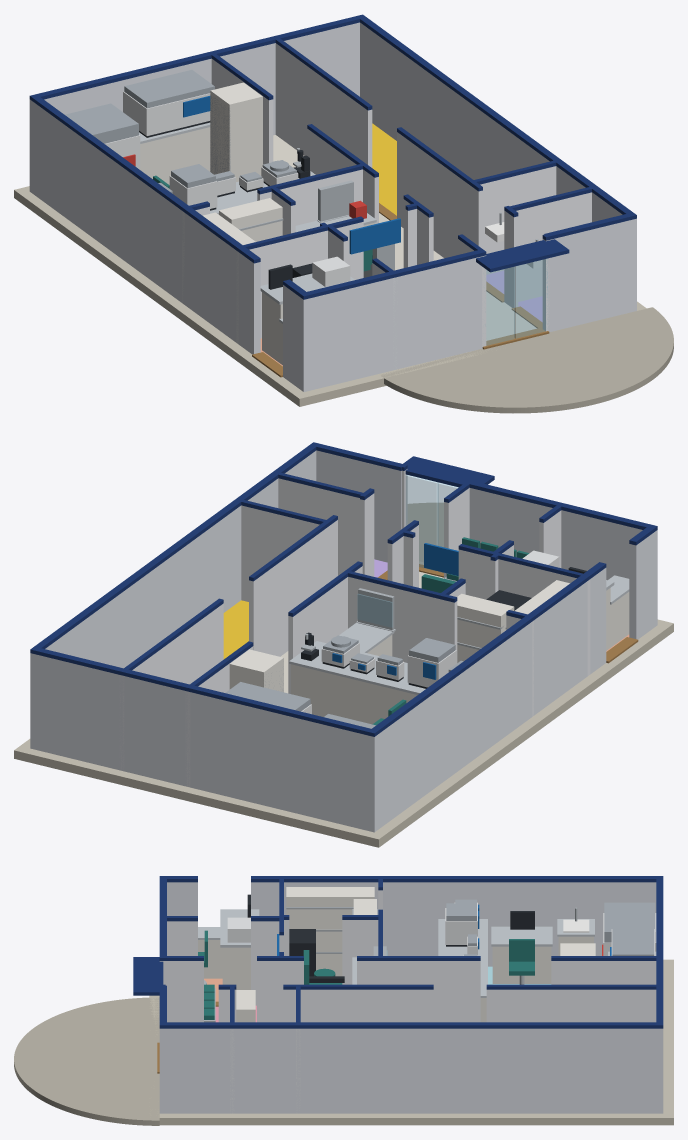
Rendered from diagnostic-lab-plan-b.glb.
3 views of the same model, one above another, from view 1: azimuth 30°, elevation 25°; view 2: azimuth 150°, elevation 25°; view 3: azimuth 270°, elevation 25° (orthographic). The views are drawn at different scales.
Parts seen in each view (by area): view 1: wall_west_1, entrance_apron, wall_south_1, wall_east_1, wall_south_2, wall_north_1, site_slab, part_spine_east_1, part_spine_east_2, sample_fridge, part_wash_mid_1, part_service_south_1 (+38 smaller); view 2: wall_north_1, wall_west_1, wall_east_1, site_slab, wall_south_1, part_spine_east_2, part_lab_south_2, bench_south_carcass, wall_south_2, part_spine_east_1, part_service_south_1, part_wash_mid_1 (+34 smaller); view 3: wall_east_1, entrance_apron, wall_west_1, site_slab, part_spine_east_1, part_spine_east_2, part_lab_east_2, storage_rack_a, wall_east_1_cap, wall_west_1_cap, part_lab_east_1, part_spine_west_3 (+34 smaller).
Boxes of the visible parts, x1,y1,x2,y2 form: wall_west_1: (29,100,260,354); entrance_apron: (381,307,673,413); wall_south_1: (300,256,482,391); wall_east_1: (360,22,636,311); wall_south_2: (548,219,636,332); wall_north_1: (29,22,359,193); site_slab: (14,186,646,406); part_spine_east_1: (275,43,372,167); part_spine_east_2: (397,132,482,258); sample_fridge: (210,82,262,181); part_wash_mid_1: (516,192,591,301); part_service_south_1: (236,222,363,344); wall_north_1: (30,653,378,832); wall_west_1: (367,568,606,831); wall_east_1: (30,451,316,749); site_slab: (14,561,673,847); wall_south_1: (469,488,657,627); part_spine_east_2: (249,520,337,656); part_lab_south_2: (348,577,457,662); bench_south_carcass: (291,664,417,724); wall_south_2: (316,450,401,562); part_spine_east_1: (119,603,223,770); part_service_south_1: (458,549,590,675); part_wash_mid_1: (278,478,359,575); wall_east_1: (159,1028,662,1113); entrance_apron: (14,997,159,1125); wall_west_1: (251,882,656,966); site_slab: (149,959,673,1125); part_spine_east_1: (486,989,656,1022); part_spine_east_2: (283,989,433,1022); part_lab_east_2: (380,961,480,1022); storage_rack_a: (286,887,374,976); wall_east_1_cap: (159,1022,663,1028); wall_west_1_cap: (251,876,658,882); part_lab_east_1: (551,961,656,984); part_spine_west_3: (159,961,203,1022).
Size of the model in its own units: 6.46 by 1.79 by 11.2.
